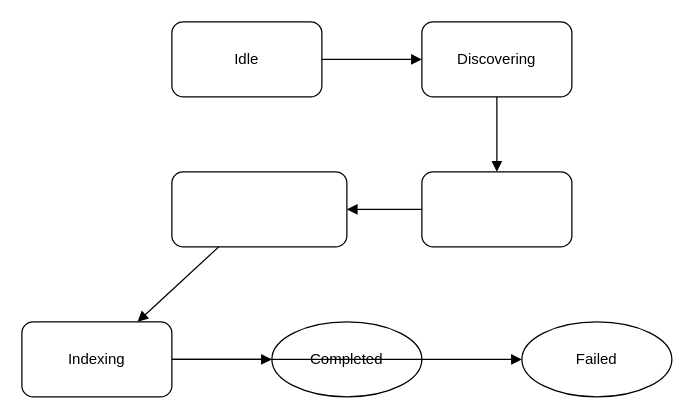
Image size: 694x419. Some labels were removed from this diagram. The shapes that lost their labels are listed below. From the top down, each one's centre as x and y in pixels, then its label:
pixel 259 209: Submitting Manifest
pixel 496 209: Filtering
